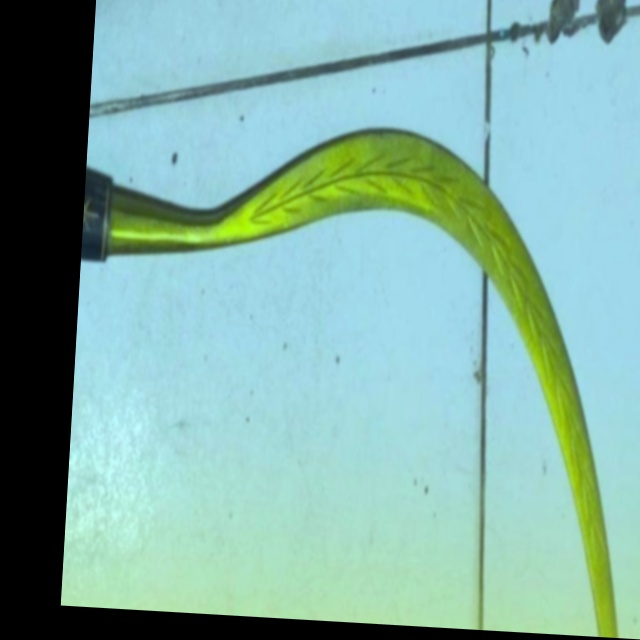Sharp-Object: (68, 108, 639, 638)
